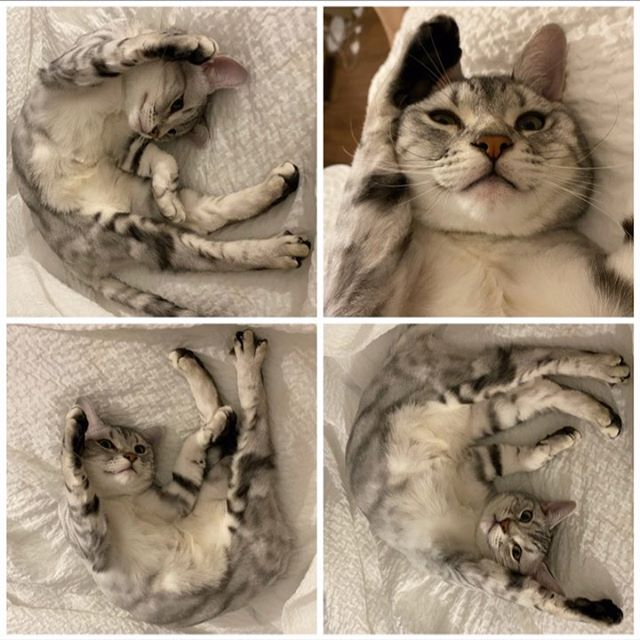cat: (384, 25, 594, 234), (127, 55, 250, 147), (475, 490, 579, 588), (73, 401, 166, 498)
